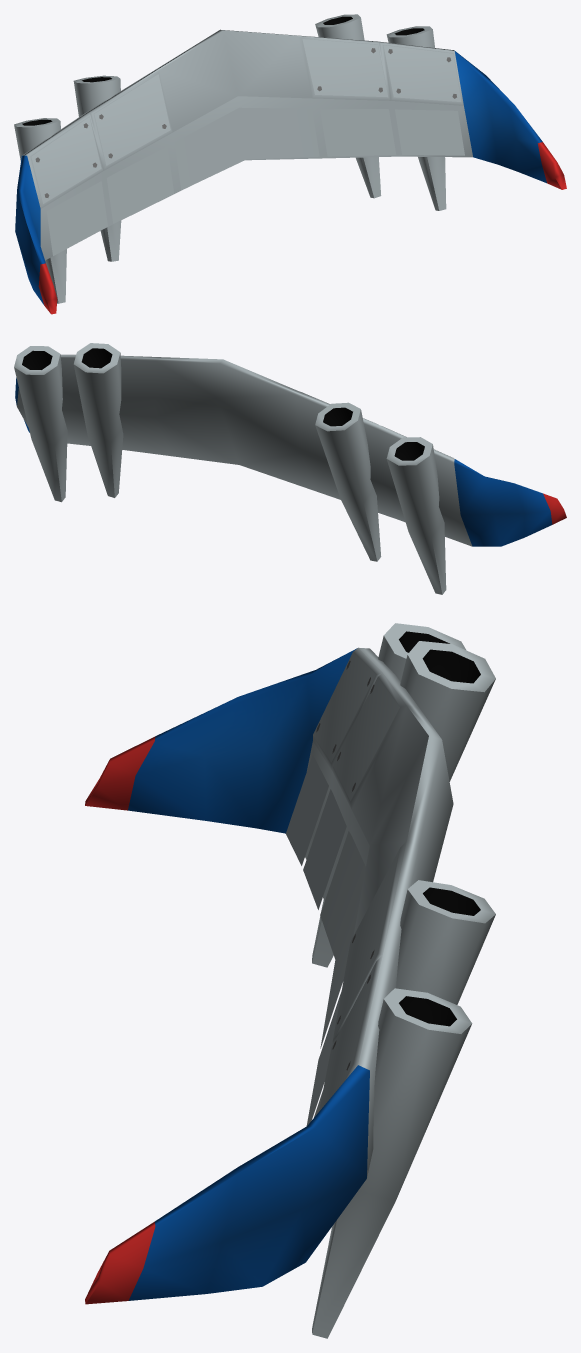
File: hat_premium_Airplane.glb
The picture shows the model from 3 angles, top to bottom: view 1: azimuth 30°, elevation 25°; view 2: azimuth 150°, elevation 25°; view 3: azimuth 270°, elevation 25°; orthographic projection. The views are drawn at different scales.
Visible parts, largest first — view 1: hat_premium_Airplane; view 2: hat_premium_Airplane; view 3: hat_premium_Airplane.
Part boxes in pixels (x1,y1,x2,y2): hat_premium_Airplane: [14, 14, 566, 314]; hat_premium_Airplane: [14, 343, 566, 594]; hat_premium_Airplane: [85, 623, 495, 1338].
Bounding box in the file's own units: 0.9498 × 0.3634 × 0.327.
